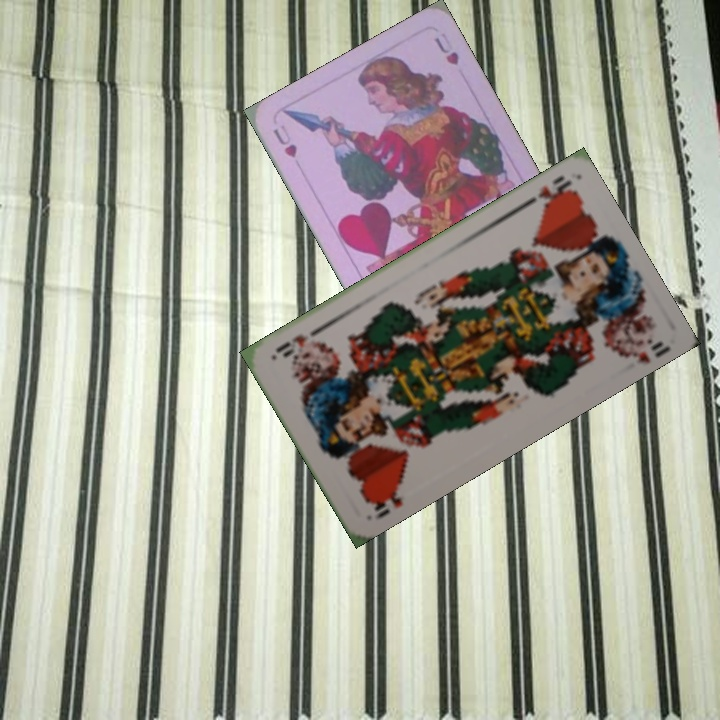HO: (519, 171, 577, 211), (362, 483, 405, 523)
HU: (269, 120, 300, 161)
